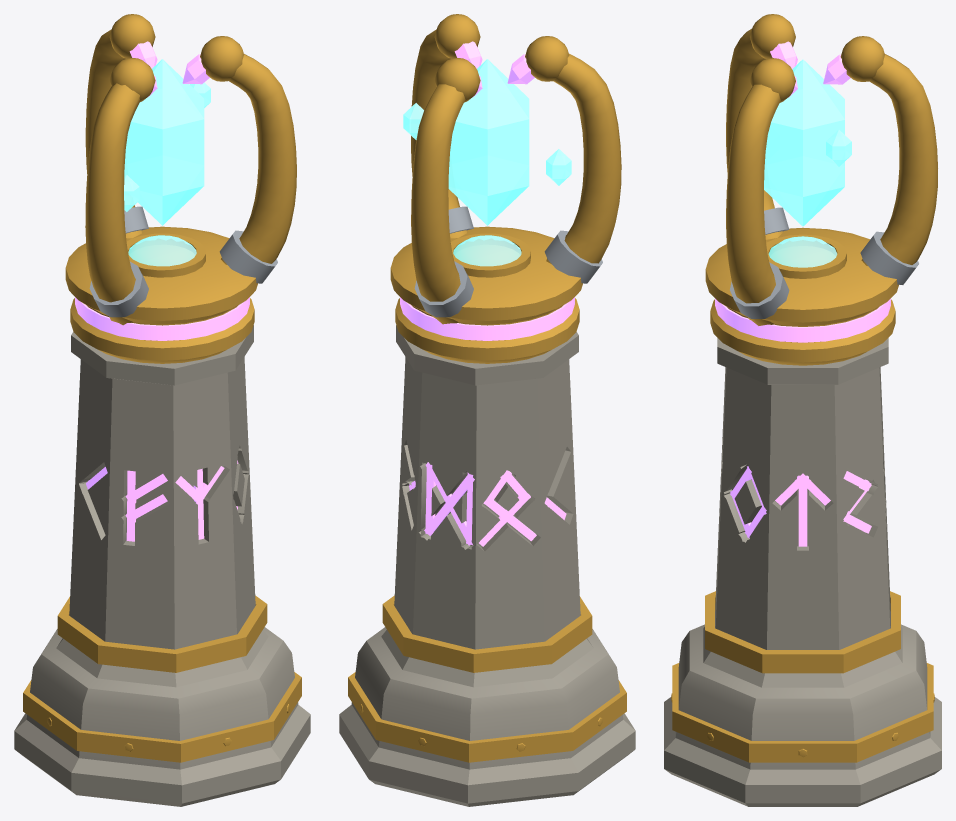
The model's file is part_ward_pylon.glb.
The picture shows the model from 3 angles, left to right: view 1: azimuth 30°, elevation 25°; view 2: azimuth 150°, elevation 25°; view 3: azimuth 270°, elevation 25°; orthographic projection.
Parts seen in each view (by area): view 1: Pylon, Crystal; view 2: Pylon, Crystal; view 3: Pylon, Crystal.
Boxes of the visible parts, <box> form: Pylon: <box>14,14,310,806</box>; Crystal: <box>124,59,210,225</box>; Pylon: <box>339,14,635,806</box>; Crystal: <box>403,59,571,225</box>; Pylon: <box>664,14,941,806</box>; Crystal: <box>764,59,851,226</box>.
Size of the model in its own units: 0.6 by 1.7 by 0.6.
